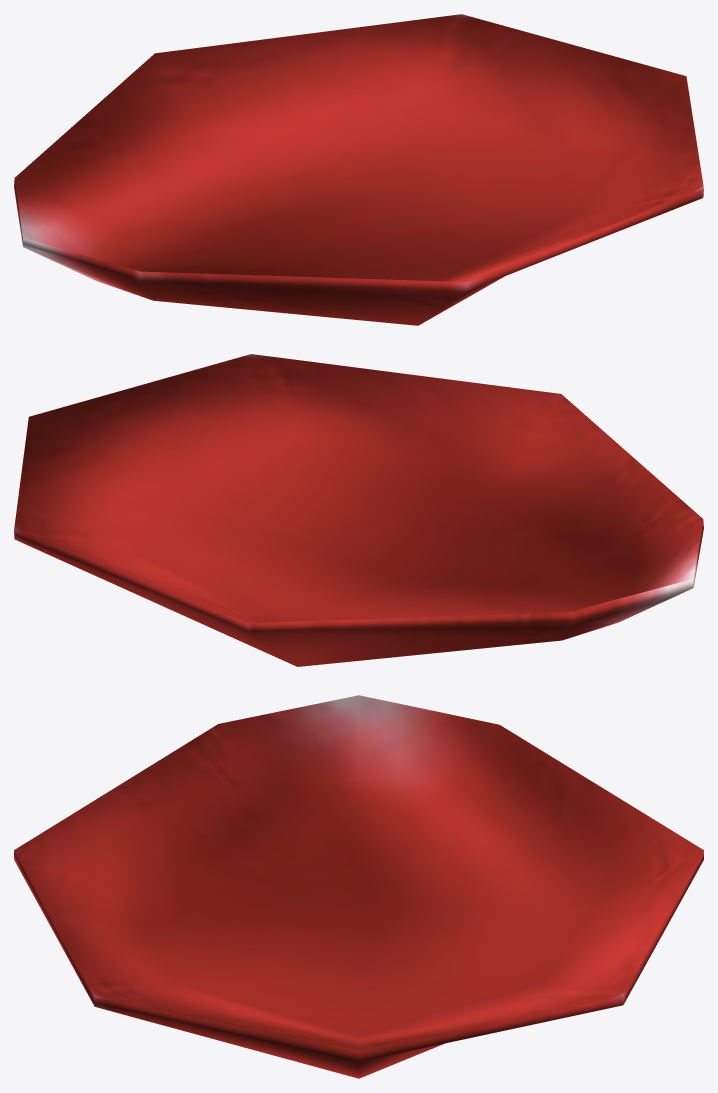
Rendered from flower petal.fbx.
3 renders of one model, top to bottom at view 1: azimuth 30°, elevation 25°; view 2: azimuth 150°, elevation 25°; view 3: azimuth 270°, elevation 25°, orthographic. The views are drawn at different scales.
Parts seen in each view (by area): view 1: Cube.034; view 2: Cube.034; view 3: Cube.034.
Boxes of the visible parts, x1,y1,x2,y2 form: Cube.034: (14, 14, 703, 325); Cube.034: (14, 354, 703, 666); Cube.034: (14, 695, 703, 1078).
Bounding box in the file's own units: 669 × 118 × 546.
